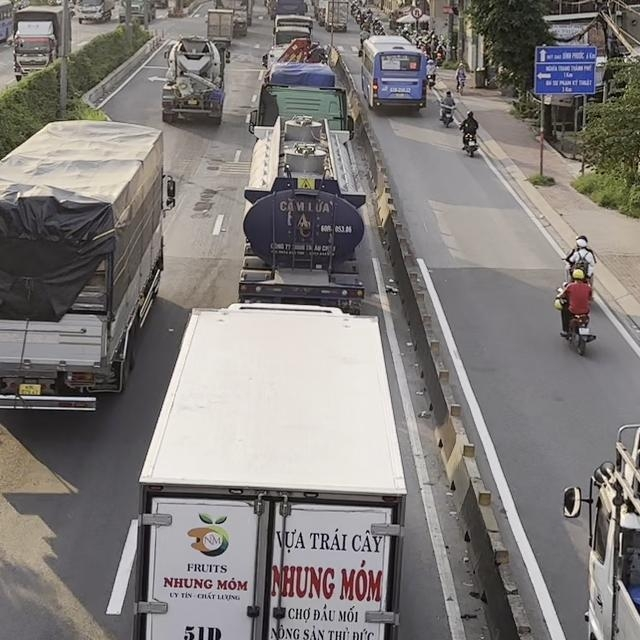bus: (359, 34, 428, 110)
motorcycle: (554, 287, 596, 356), (460, 125, 479, 157), (438, 100, 456, 128), (426, 72, 436, 89)
truck: (128, 301, 410, 639), (0, 120, 176, 413), (238, 82, 366, 314), (562, 422, 639, 639), (161, 34, 231, 125), (206, 8, 235, 47)
